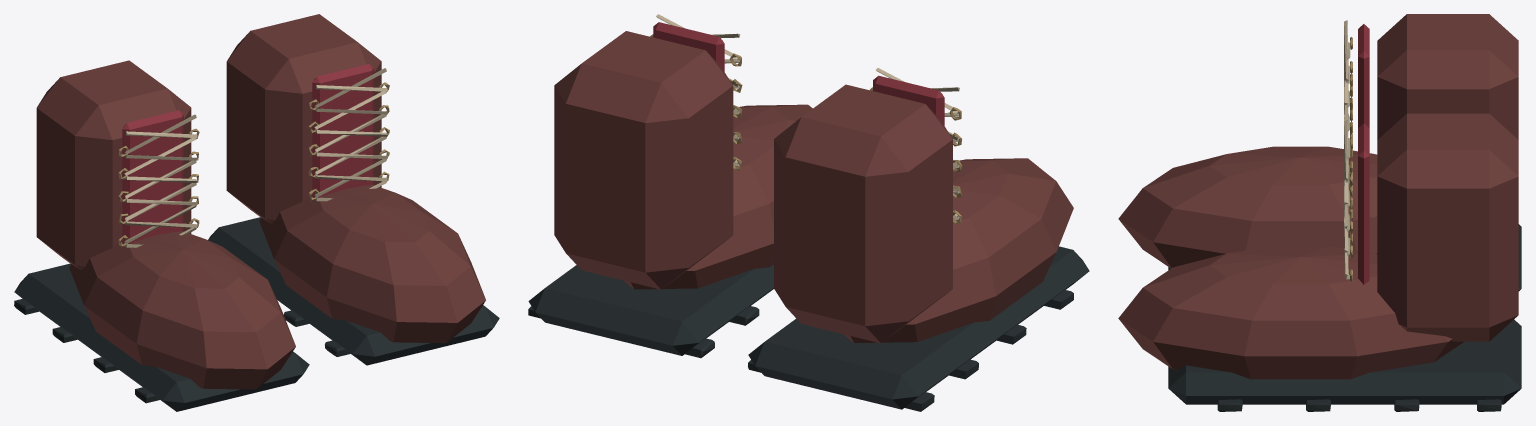
The model's file is clown_combat_boots.glb.
3 views of the same model, side by side, from view 1: azimuth 30°, elevation 25°; view 2: azimuth 150°, elevation 25°; view 3: azimuth 270°, elevation 25° (orthographic). The views are drawn at different scales.
Visible parts, largest first — view 1: clown_combat_boots; view 2: clown_combat_boots; view 3: clown_combat_boots.
Part boxes in pixels (<box>): clown_combat_boots: <box>14,14,499,411</box>; clown_combat_boots: <box>528,14,1089,411</box>; clown_combat_boots: <box>1118,14,1521,411</box>.
Size of the model in its own units: 0.7181 by 0.465 by 0.685.
